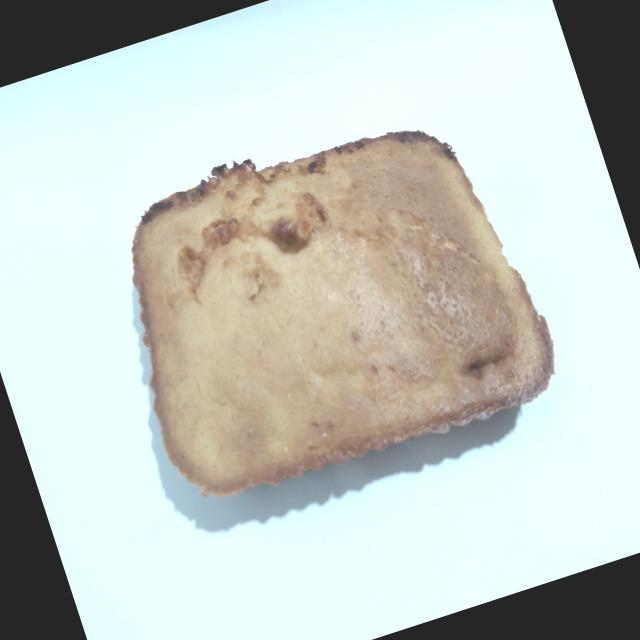Sopa: (80, 69, 578, 529)
